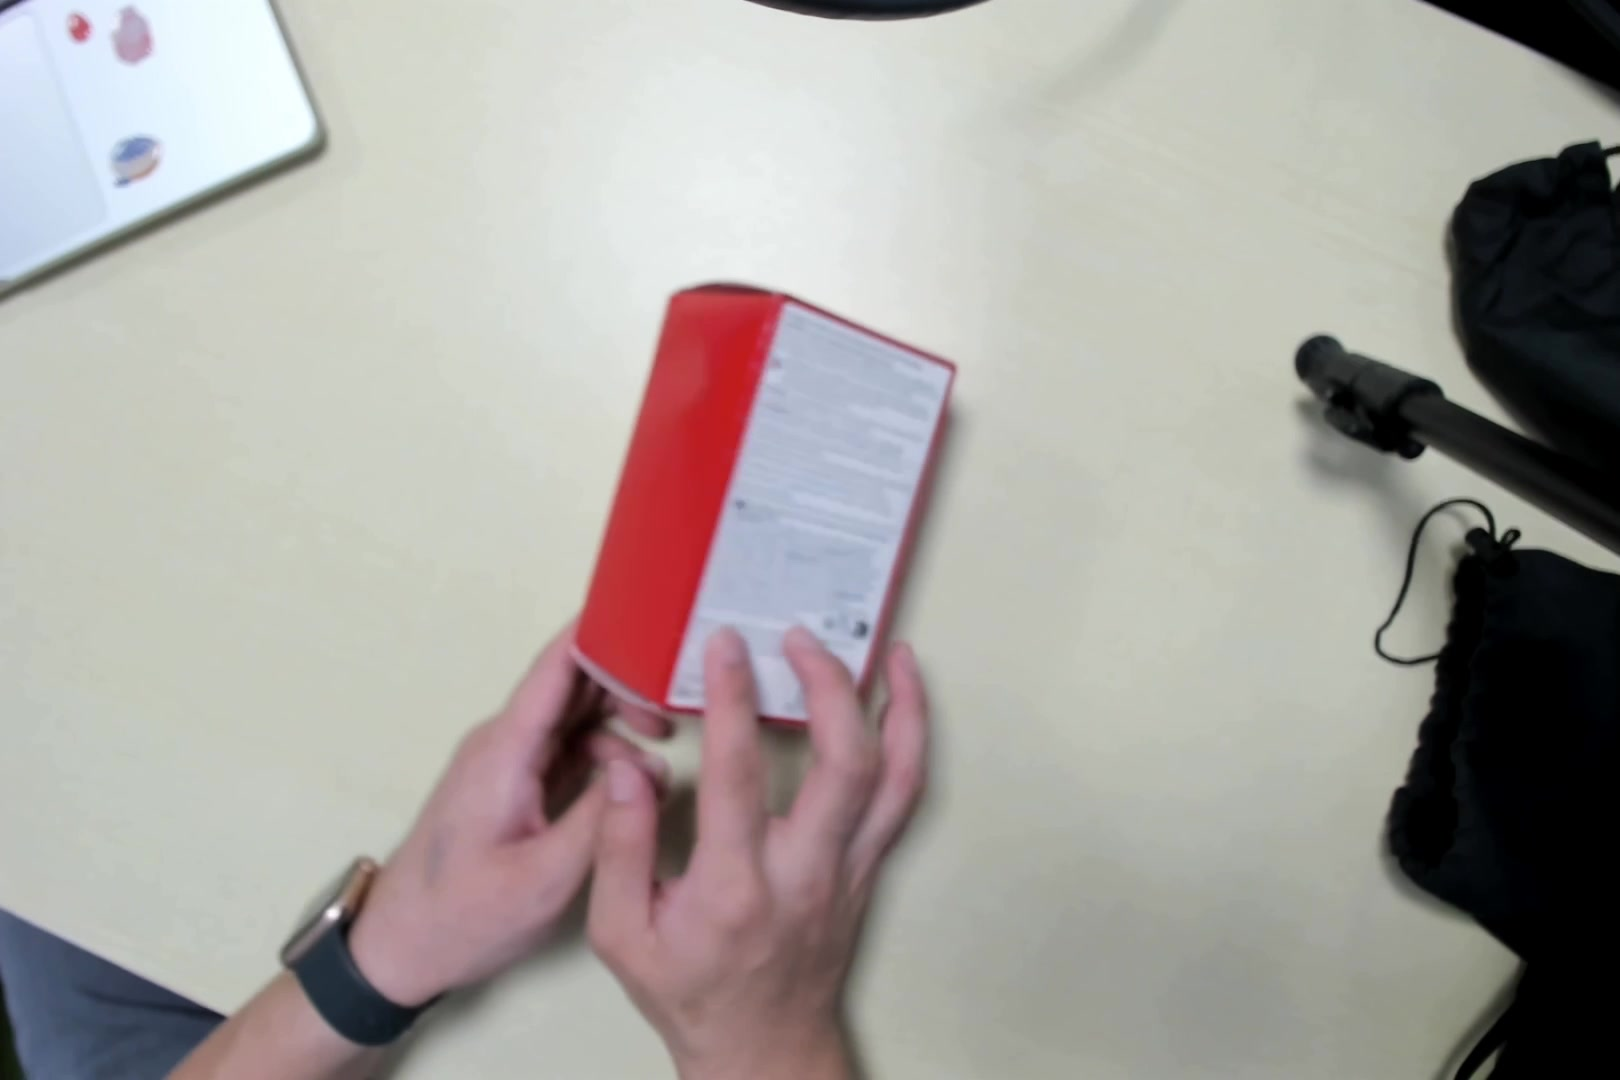Tea(PowderLeaves)_100-199g_Halal_NonHealthy: (567, 269, 949, 749)
